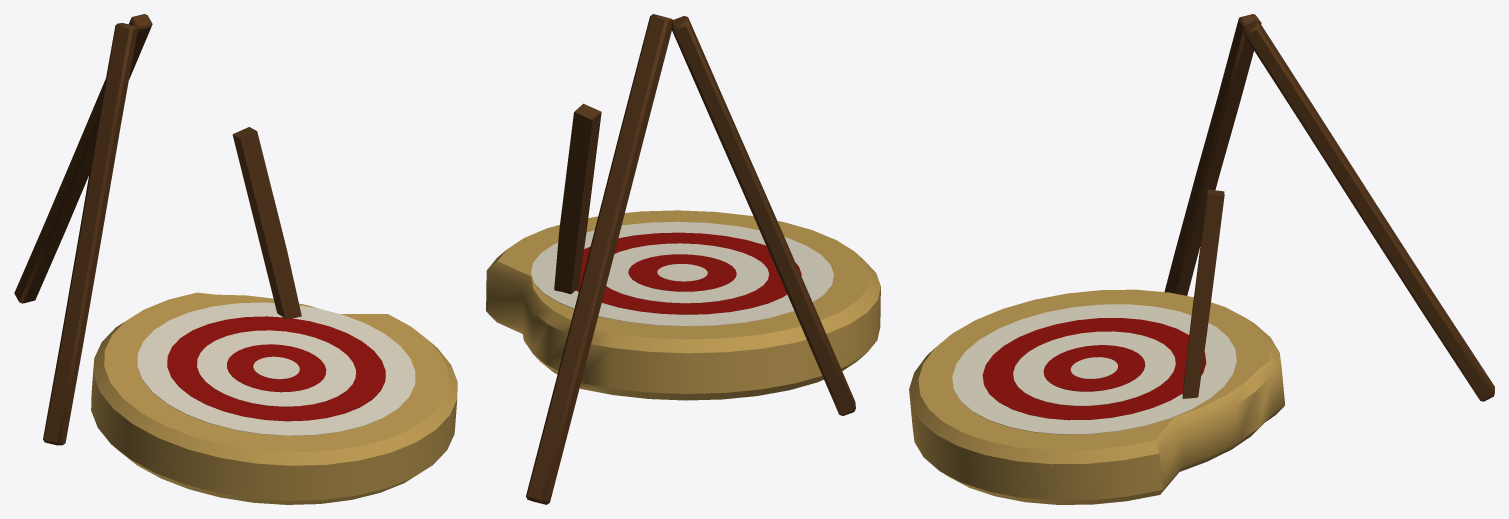
Rendered from zielscheibe_kaputt.glb.
3 renders of one model, left to right at view 1: azimuth 30°, elevation 25°; view 2: azimuth 150°, elevation 25°; view 3: azimuth 270°, elevation 25°, orthographic. The views are drawn at different scales.
Visible parts, largest first — view 1: zielscheibe_kaputt; view 2: zielscheibe_kaputt; view 3: zielscheibe_kaputt.
Part boxes in pixels (bbox=[...]): zielscheibe_kaputt: bbox=[14, 14, 457, 504]; zielscheibe_kaputt: bbox=[486, 14, 880, 504]; zielscheibe_kaputt: bbox=[909, 14, 1494, 504].
Bounding box in the file's own units: 1.23 × 1.25 × 1.72.
